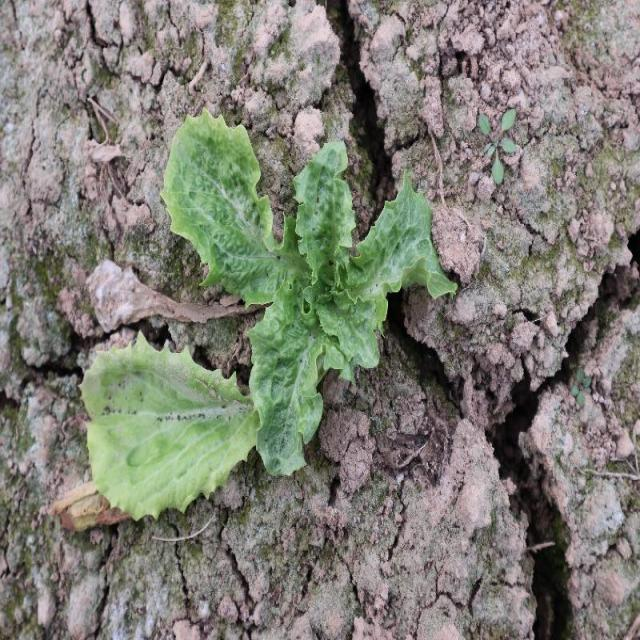crop: (80, 107, 460, 528)
